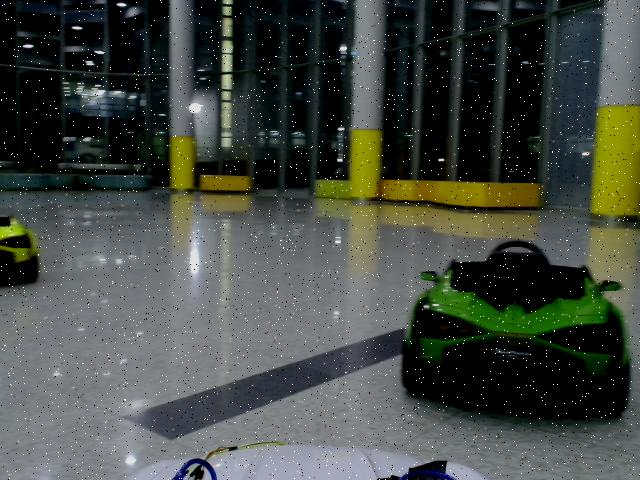car: (402, 241, 631, 420), (1, 215, 39, 286)
